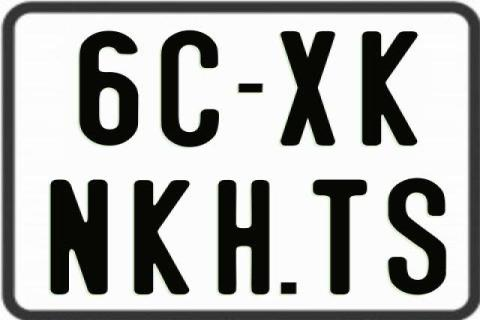0: (77, 29, 141, 149)
C: (159, 30, 222, 148)
H: (216, 180, 268, 296)
K: (360, 29, 416, 145), (131, 178, 187, 294)
N: (49, 177, 110, 292)
S: (388, 178, 450, 296)
T: (313, 180, 371, 300)
X: (278, 30, 334, 150)
